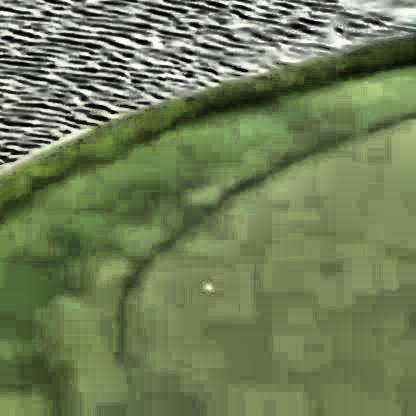golfball: (200, 280, 213, 291)
